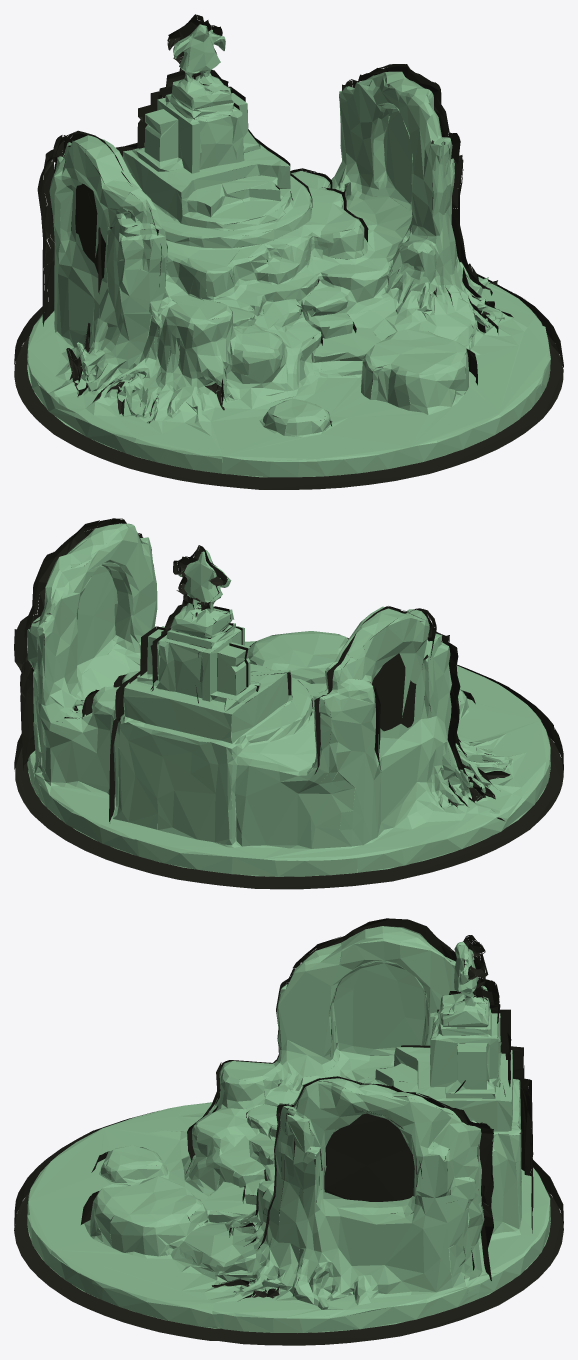
Rendered from df_v2_ruined_shrine_c_a.glb.
The picture shows the model from 3 angles, top to bottom: view 1: azimuth 30°, elevation 25°; view 2: azimuth 150°, elevation 25°; view 3: azimuth 270°, elevation 25°; orthographic projection.
Parts seen in each view (by area): view 1: ruined_shrine_c_mesh_01, ruined_shrine_c_mesh_01_ink_outline; view 2: ruined_shrine_c_mesh_01, ruined_shrine_c_mesh_01_ink_outline; view 3: ruined_shrine_c_mesh_01, ruined_shrine_c_mesh_01_ink_outline.
Part boxes in pixels (left/top/right/bottom): ruined_shrine_c_mesh_01: left=27, top=24, right=550, bottom=477; ruined_shrine_c_mesh_01_ink_outline: left=14, top=14, right=563, bottom=489; ruined_shrine_c_mesh_01: left=27, top=523, right=550, bottom=876; ruined_shrine_c_mesh_01_ink_outline: left=14, top=518, right=563, bottom=889; ruined_shrine_c_mesh_01: left=27, top=926, right=550, bottom=1332; ruined_shrine_c_mesh_01_ink_outline: left=14, top=918, right=563, bottom=1345.
Bounding box in the file's own units: 2.31 × 1.36 × 2.31.
